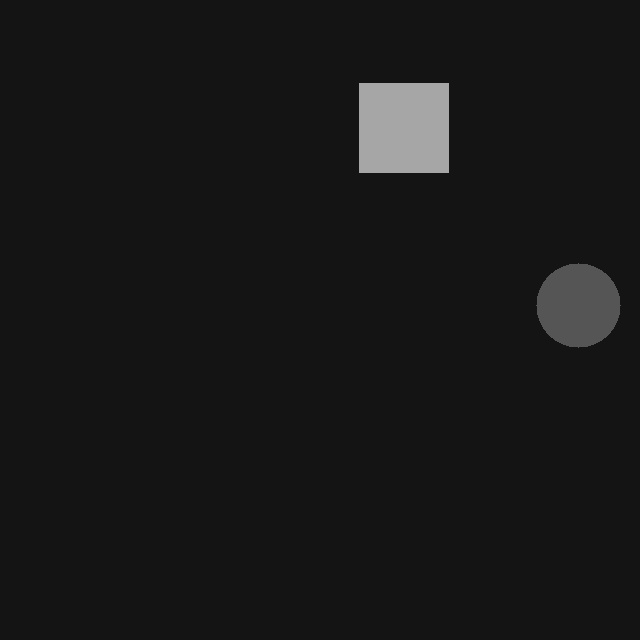circle: (536, 263, 620, 347)
square: (359, 83, 448, 172)
